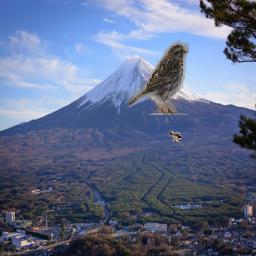Sparrow: (127, 41, 190, 116), (169, 130, 182, 142)
